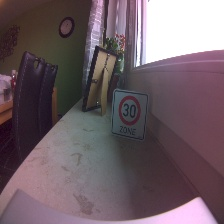dreisiger_zone: (111, 88, 149, 142)
